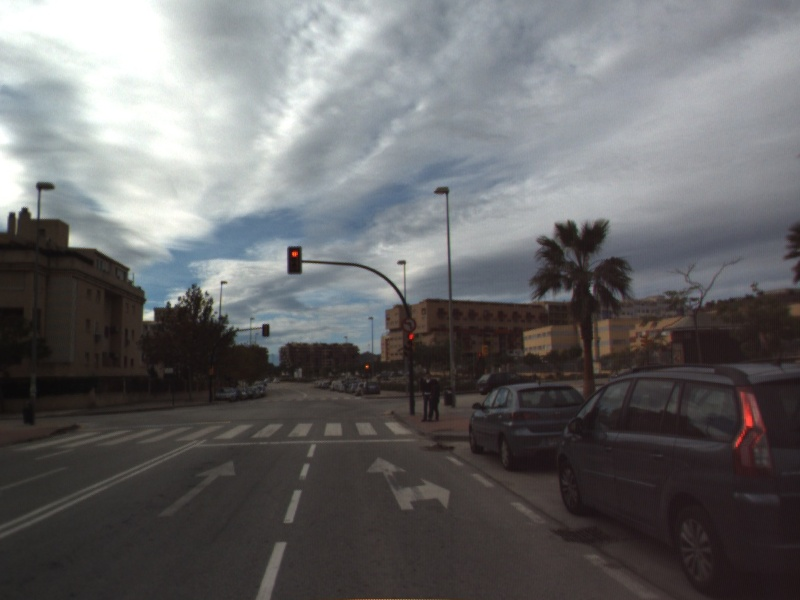STRAIGHT: (156, 458, 238, 519)
STRAIGHT_RIGHT: (364, 455, 452, 512)
